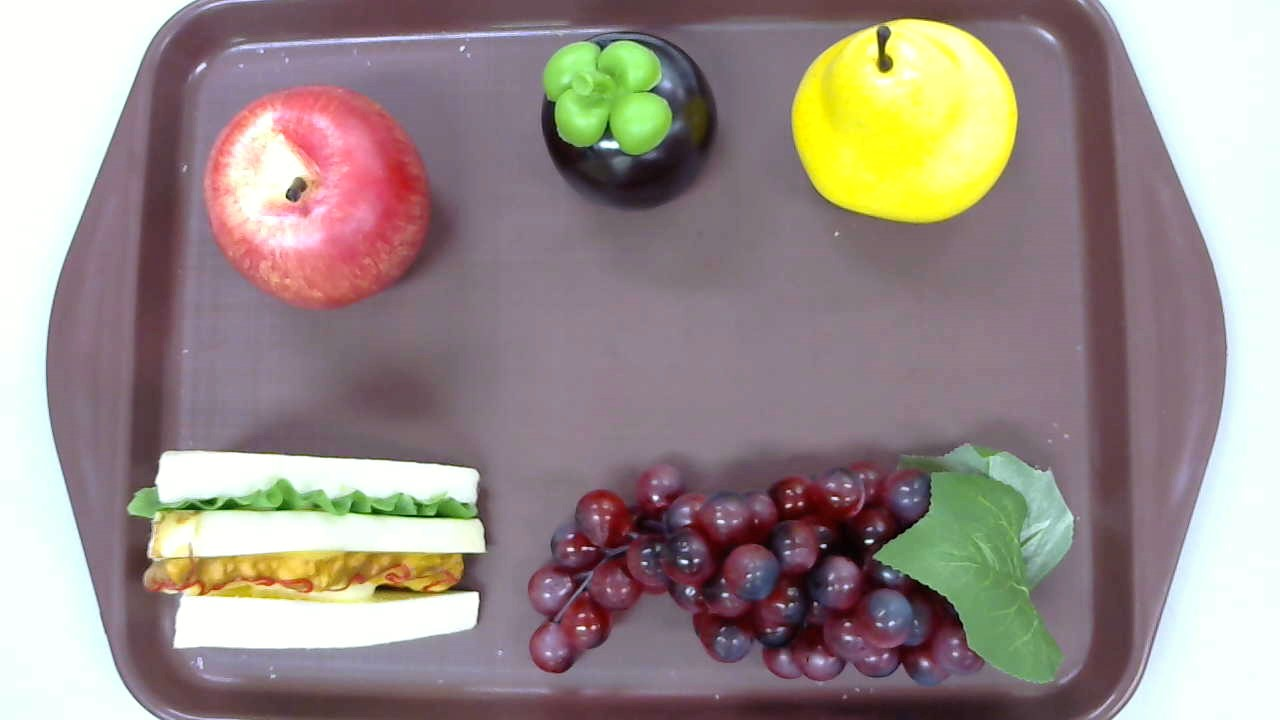grape: (528, 440, 1074, 686)
mangosteen: (540, 29, 717, 213)
red apple: (202, 84, 433, 314)
sandwich: (126, 450, 486, 649)
yellow pear: (791, 19, 1018, 225)
